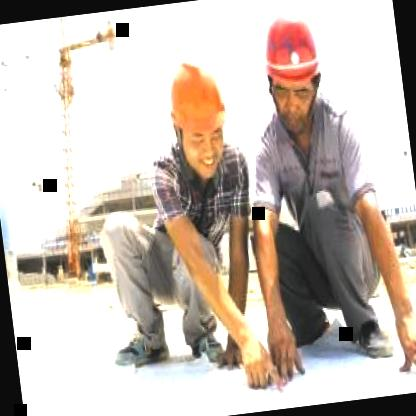helmet: (154, 41, 242, 186), (249, 0, 335, 139)
